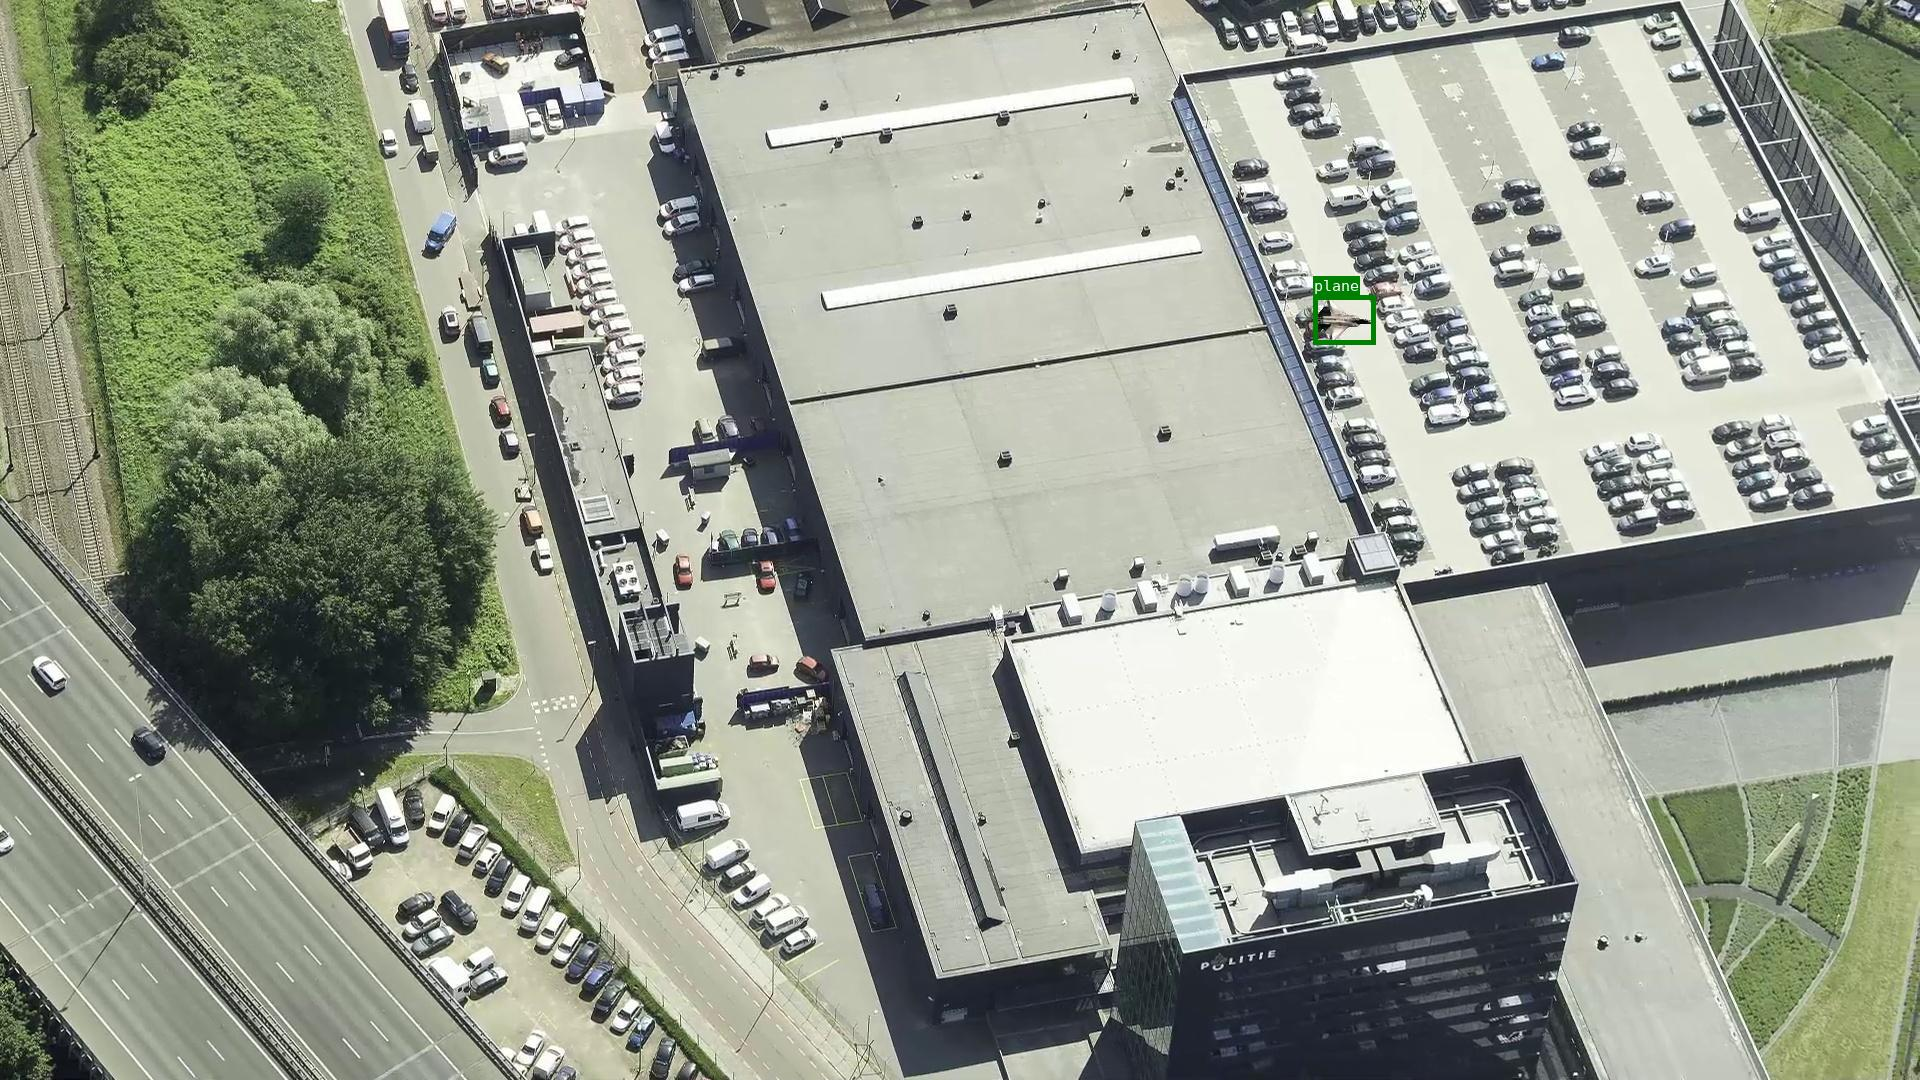plane: (1313, 295, 1375, 344)
